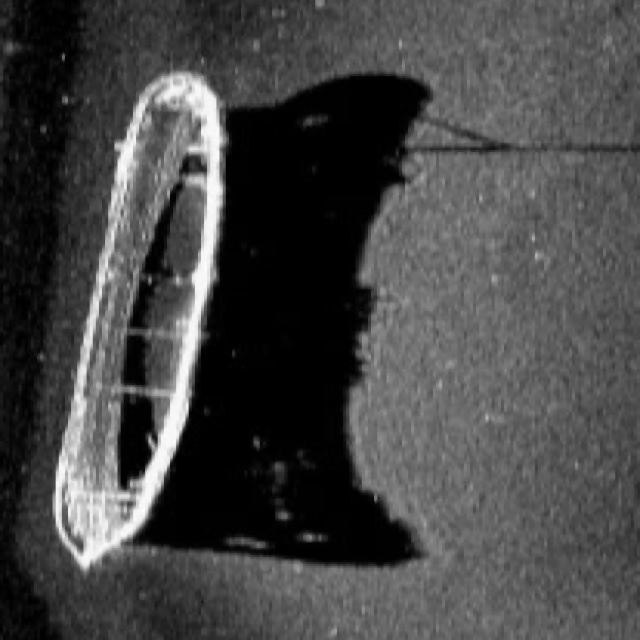Ship: (34, 61, 245, 587)
